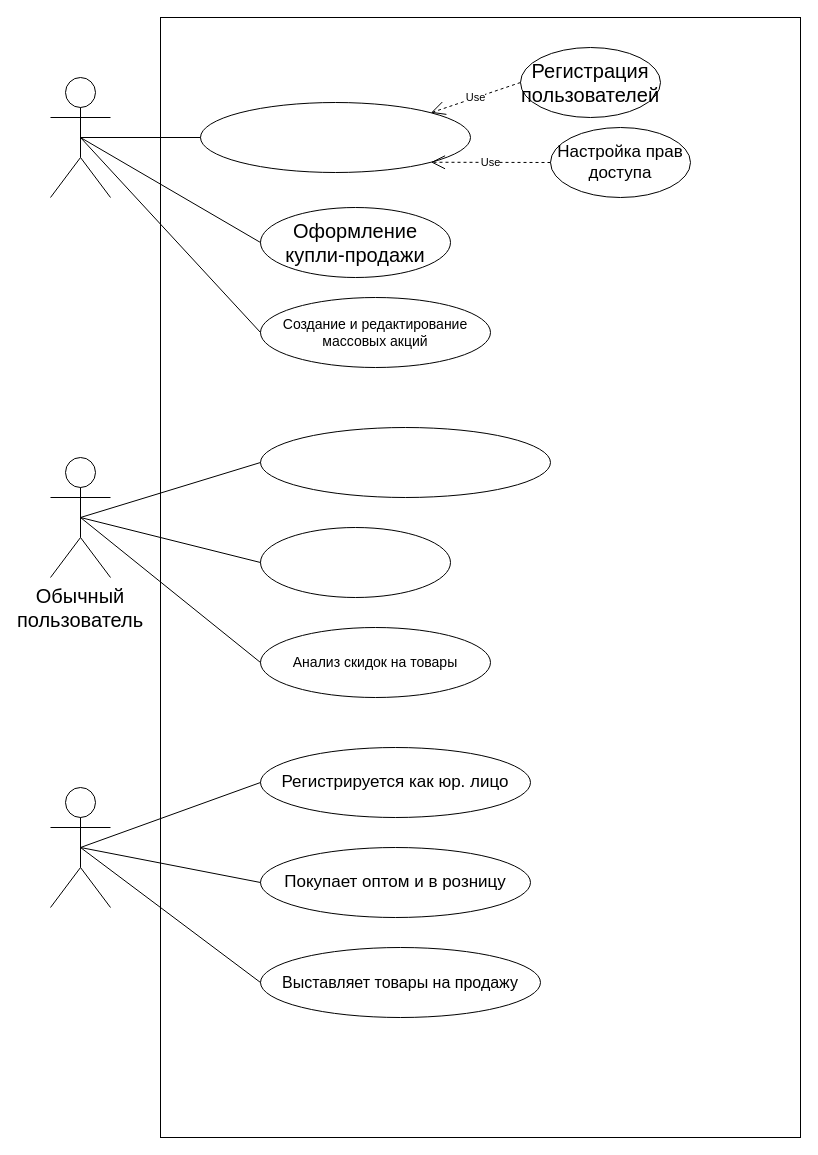
Some shapes in this 818 by 1155 pixel diagram are drawn without their labels. Each missing label, with the box of its shape:
Оформление заказа: (260, 526, 450, 598)
Регистрируется как обычное физ. лицо: (260, 426, 550, 498)
Сайт Озон: (50, 76, 110, 198)
Управление доступом к функциям сайта: (200, 102, 470, 172)
Юр. лицо: (50, 786, 110, 908)
